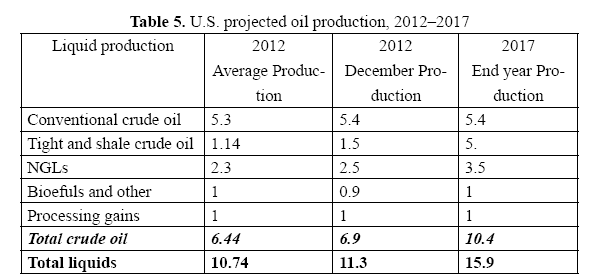fracking table: (19, 9, 580, 274)
